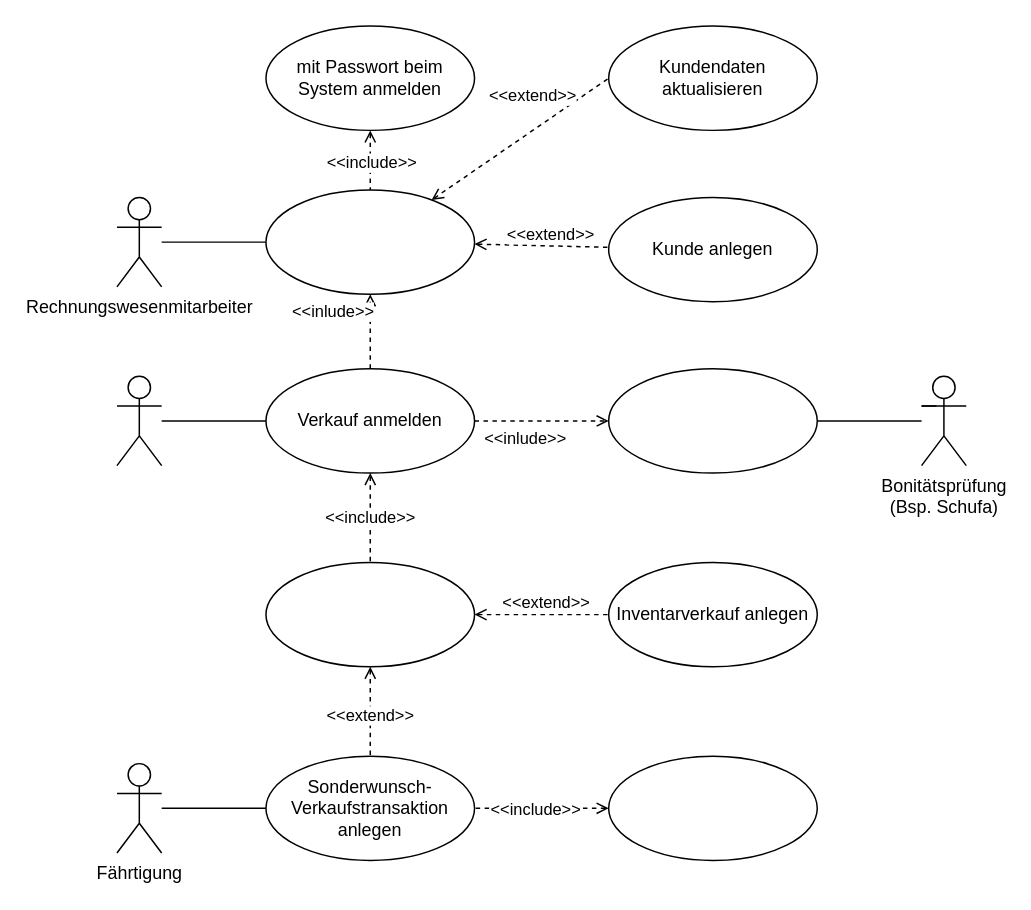
Image size: 1031x910. Some labels were removed from this diagram. Here are the shapes that lost their labels. From the top down, the centre of each, then its label:
At (x=369, y=241): "Kundendaten prüfen".
At (x=138, y=420): "Vertriebsmitarbeiter".
At (x=712, y=420): "Bonität prüfen".
At (x=369, y=614): "Verkauf hinterlegen".
At (x=712, y=807): "Authentifizieren".
